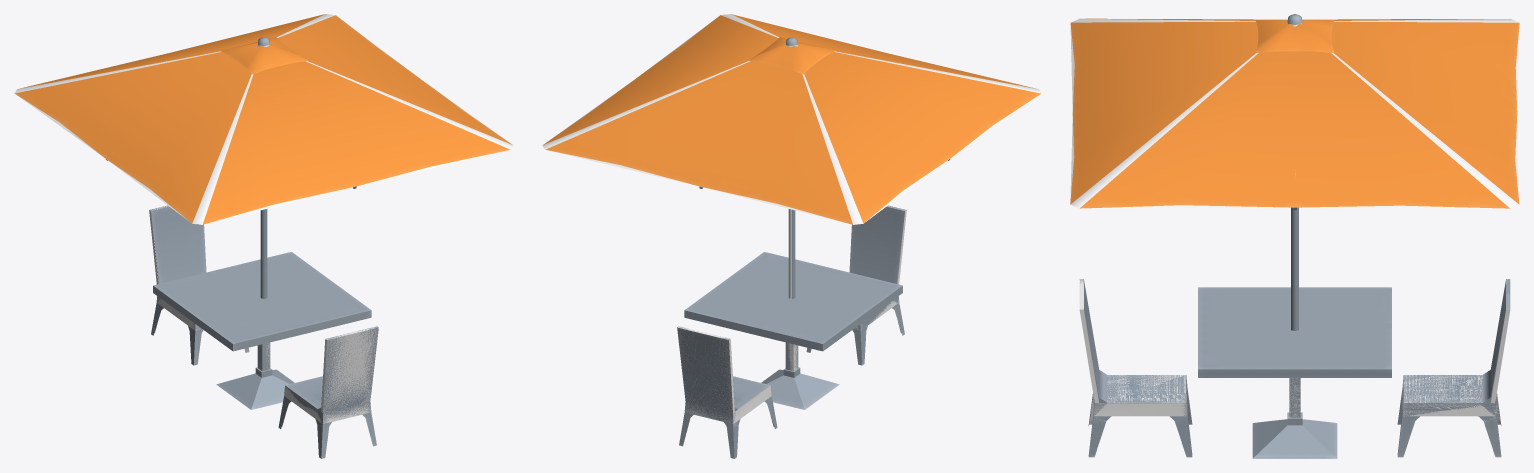
File: objects_un_c01table03.gltf
3 renders of one model, left to right at view 1: azimuth 30°, elevation 25°; view 2: azimuth 150°, elevation 25°; view 3: azimuth 270°, elevation 25°, orthographic. The views are drawn at different scales.
Visible parts, largest first — view 1: um_objects_un_c01table03_model_lod0Shape:objects_un_c01table (×2); view 2: um_objects_un_c01table03_model_lod0Shape:objects_un_c01table (×2); view 3: um_objects_un_c01table03_model_lod0Shape:objects_un_c01table (×2).
Boxes of the visible parts, box(x1,y1,x2,y2) form: um_objects_un_c01table03_model_lod0Shape:objects_un_c01table (×2): box(14, 14, 513, 458); um_objects_un_c01table03_model_lod0Shape:objects_un_c01table (×2): box(542, 14, 1041, 458); um_objects_un_c01table03_model_lod0Shape:objects_un_c01table (×2): box(1070, 14, 1519, 458).
Size of what is drawn, in the model's own units: 2.73 by 2.86 by 2.73.
2 materials, 1 textured.
